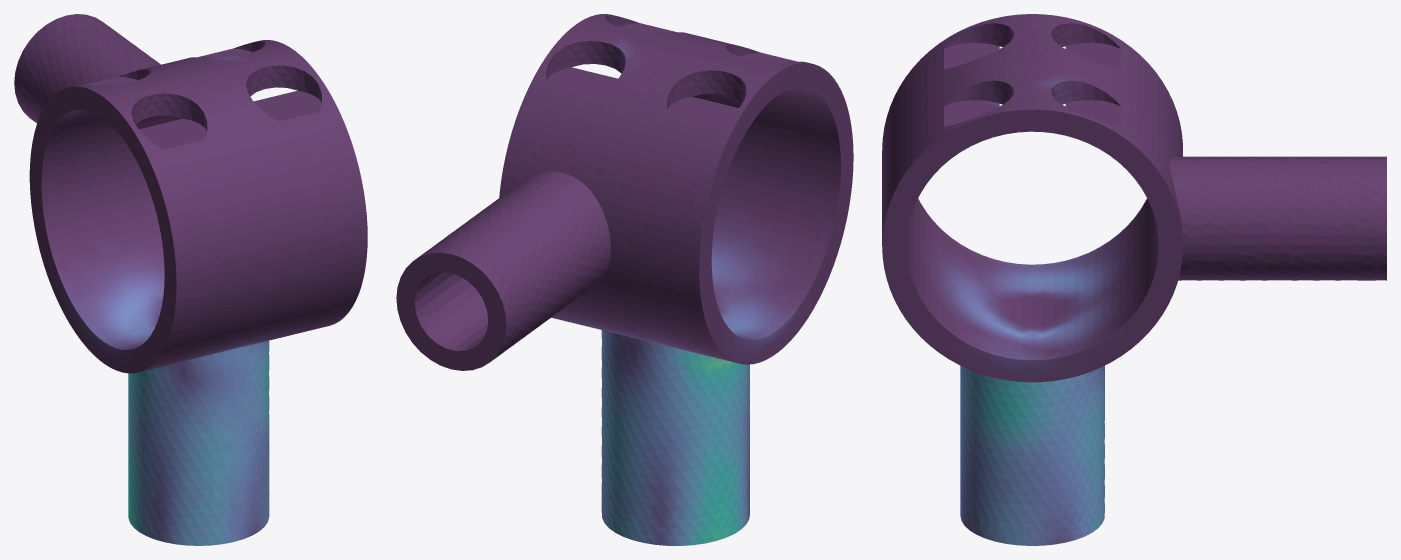
File: CAD_TL-CLAMP.glb
3 renders of one model, left to right at view 1: azimuth 30°, elevation 25°; view 2: azimuth 150°, elevation 25°; view 3: azimuth 270°, elevation 25°, orthographic. The views are drawn at different scales.
Visible parts, largest first — view 1: geometry_0; view 2: geometry_0; view 3: geometry_0.
Part boxes in pixels (bbox=[...]): geometry_0: bbox=[14, 14, 367, 545]; geometry_0: bbox=[396, 14, 853, 545]; geometry_0: bbox=[882, 14, 1386, 545].
Bounding box in the file's own units: 0.11 × 0.2433 × 0.2453.
